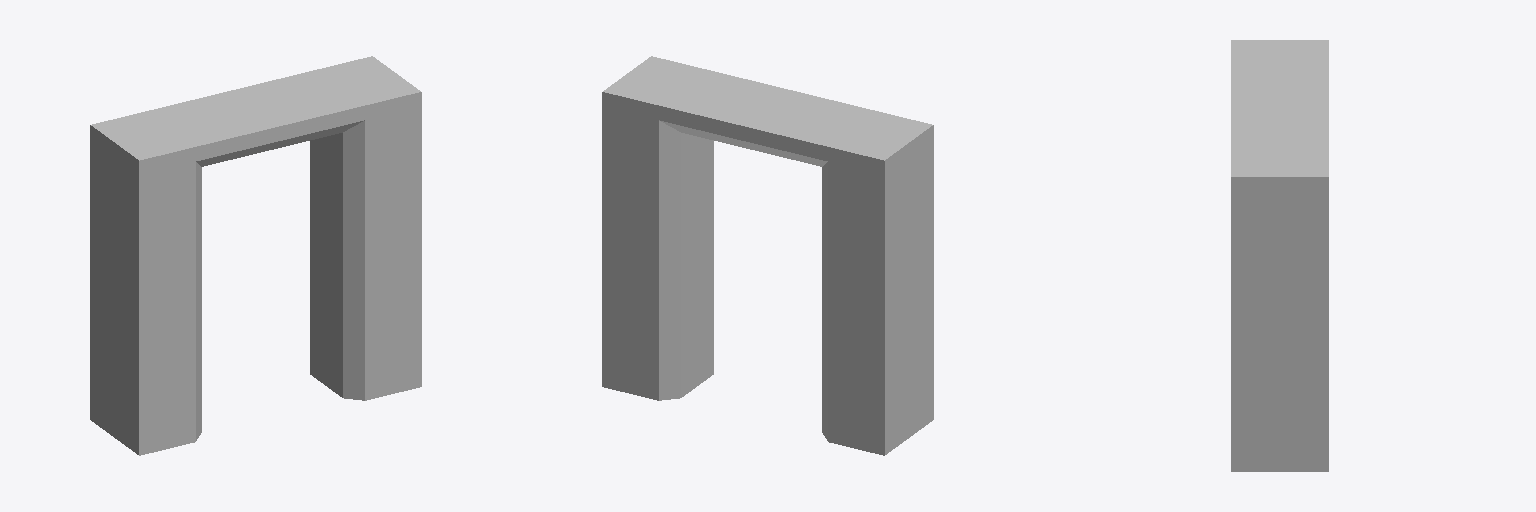
The model's file is struct_wall_cell_door_main.obj.
3 views of the same model, side by side, from view 1: azimuth 30°, elevation 25°; view 2: azimuth 150°, elevation 25°; view 3: azimuth 270°, elevation 25° (orthographic).
Parts seen in each view (by area): view 1: struct_wall_cell_door_main; view 2: struct_wall_cell_door_main; view 3: struct_wall_cell_door_main.
Boxes of the visible parts, box(x1,y1,x2,y2) form: struct_wall_cell_door_main: box(90, 56, 421, 455); struct_wall_cell_door_main: box(602, 56, 933, 455); struct_wall_cell_door_main: box(1231, 40, 1328, 471).
Bounding box in the file's own units: 1 × 1 × 0.3.